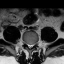CCS_normal: (29, 41, 31, 51)
LFS_normal: (33, 40, 35, 47)
LLS_normal: (31, 41, 33, 49)
RFS_normal: (25, 39, 27, 47)
RLS_normal: (27, 41, 29, 50)
